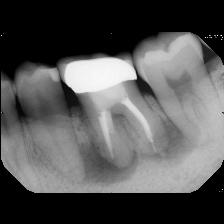apical_lesion: (57, 51, 191, 188)
